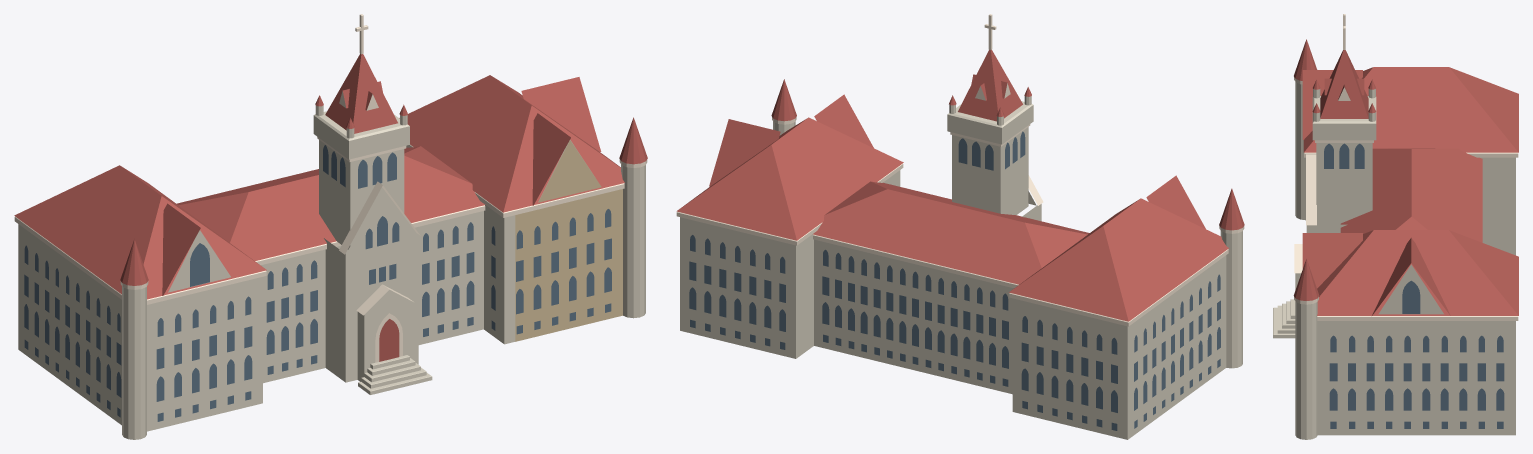
File: atx-st-edwards-main-building.glb
3 views of the same model, side by side, from view 1: azimuth 30°, elevation 25°; view 2: azimuth 150°, elevation 25°; view 3: azimuth 270°, elevation 25° (orthographic). The views are drawn at different scales.
Parts seen in each view (by area): view 1: St. Edward's University Main Building; view 2: St. Edward's University Main Building; view 3: St. Edward's University Main Building.
Boxes of the visible parts, x1,y1,x2,y2 form: St. Edward's University Main Building: (14, 14, 647, 439); St. Edward's University Main Building: (676, 14, 1244, 439); St. Edward's University Main Building: (1273, 14, 1518, 439).
Bounding box in the file's own units: 67.7 × 42.5 × 30.5.
